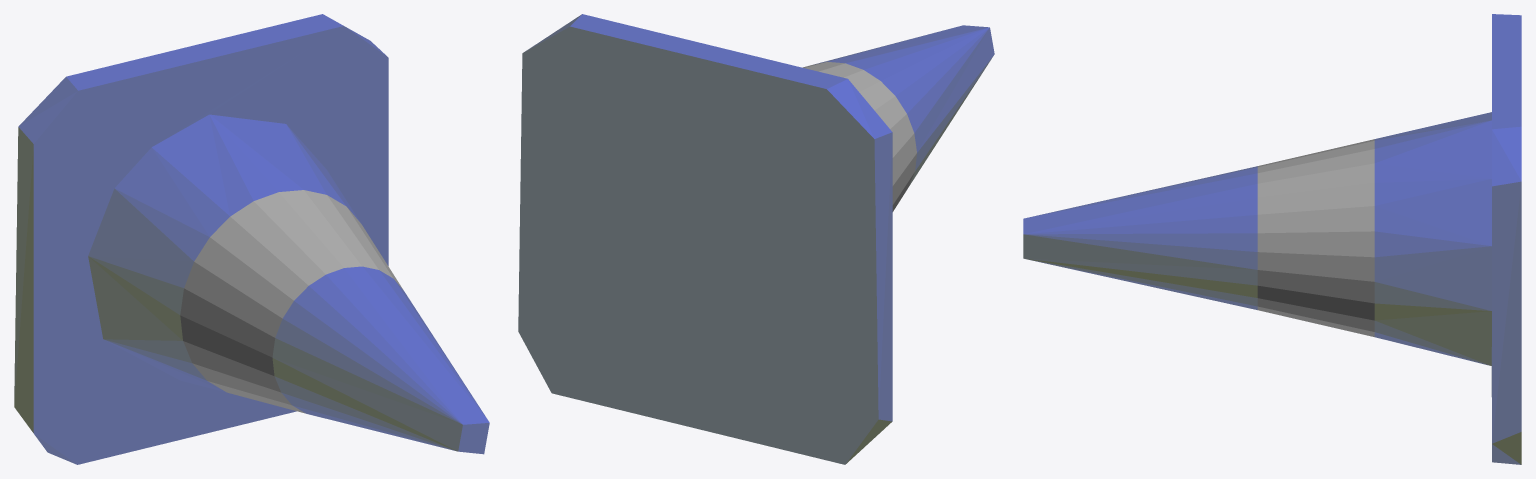
The model's file is blue_cone.glb.
The picture shows the model from 3 angles, left to right: view 1: azimuth 30°, elevation 25°; view 2: azimuth 150°, elevation 25°; view 3: azimuth 270°, elevation 25°; orthographic projection. The views are drawn at different scales.
Parts seen in each view (by area): view 1: node; view 2: node; view 3: node.
Part boxes in pixels (x1=…): node: x1=14, y1=14, x2=489, y2=464; node: x1=518, y1=14, x2=994, y2=464; node: x1=1023, y1=14, x2=1521, y2=464.
Bounding box in the file's own units: 0.2254 × 0.224 × 0.3034.
